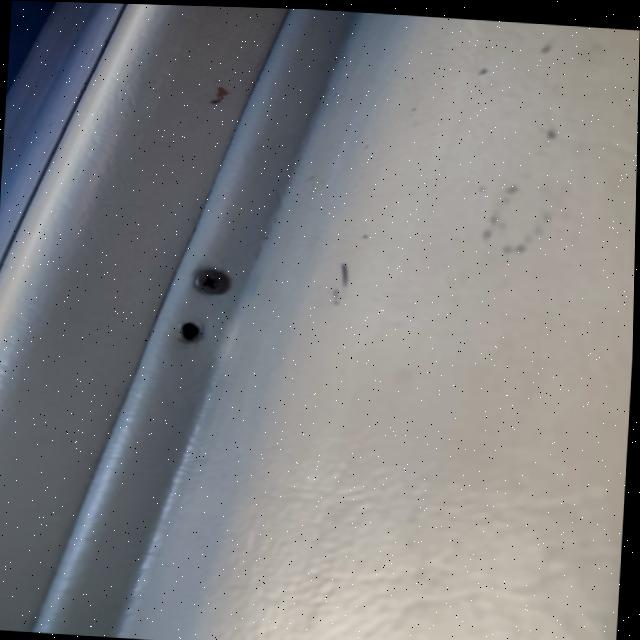Phillips: (189, 264, 235, 298)
